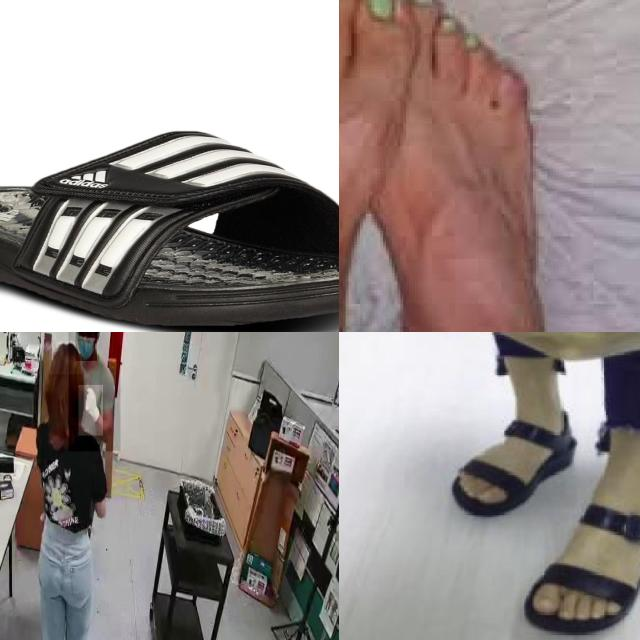Barefoots: (339, 0, 587, 332)
Sandals: (0, 128, 339, 329), (519, 471, 640, 640), (431, 389, 564, 528)
face_mask: (75, 332, 96, 360)
hand_glove: (79, 385, 103, 435)
head_nohelmet: (49, 341, 83, 375)
person: (20, 332, 112, 640), (68, 332, 121, 451)
